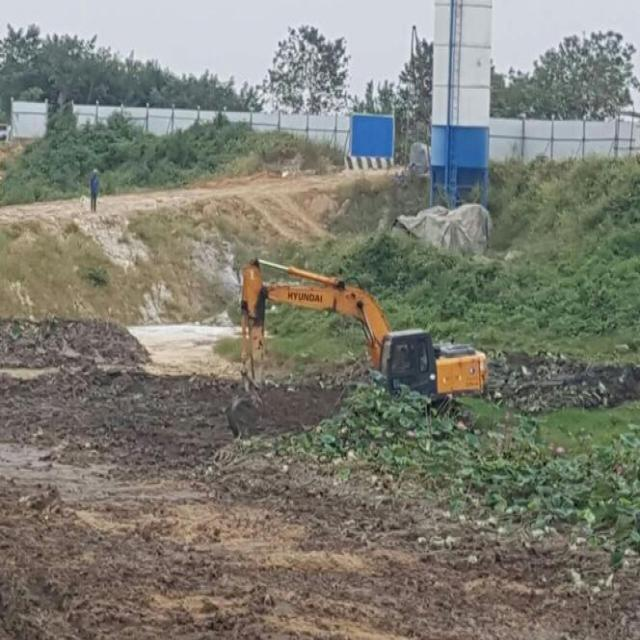excavator: (227, 258, 487, 439)
